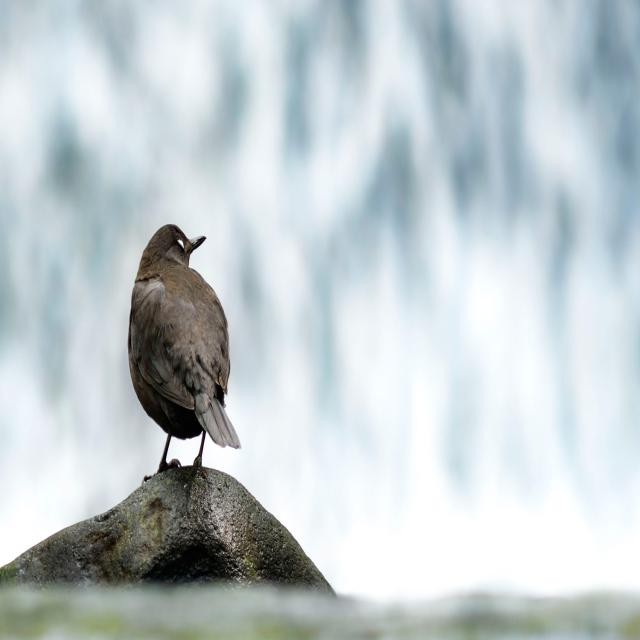bird: (125, 225, 238, 475)
